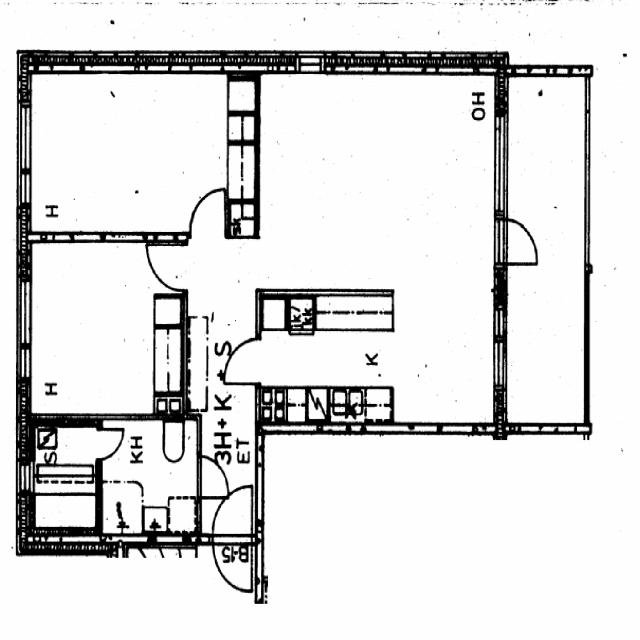door: (212, 533, 252, 595), (212, 482, 252, 544), (493, 218, 544, 263), (220, 338, 260, 384), (147, 246, 187, 290), (190, 188, 224, 239), (196, 456, 233, 496), (96, 428, 128, 460)
